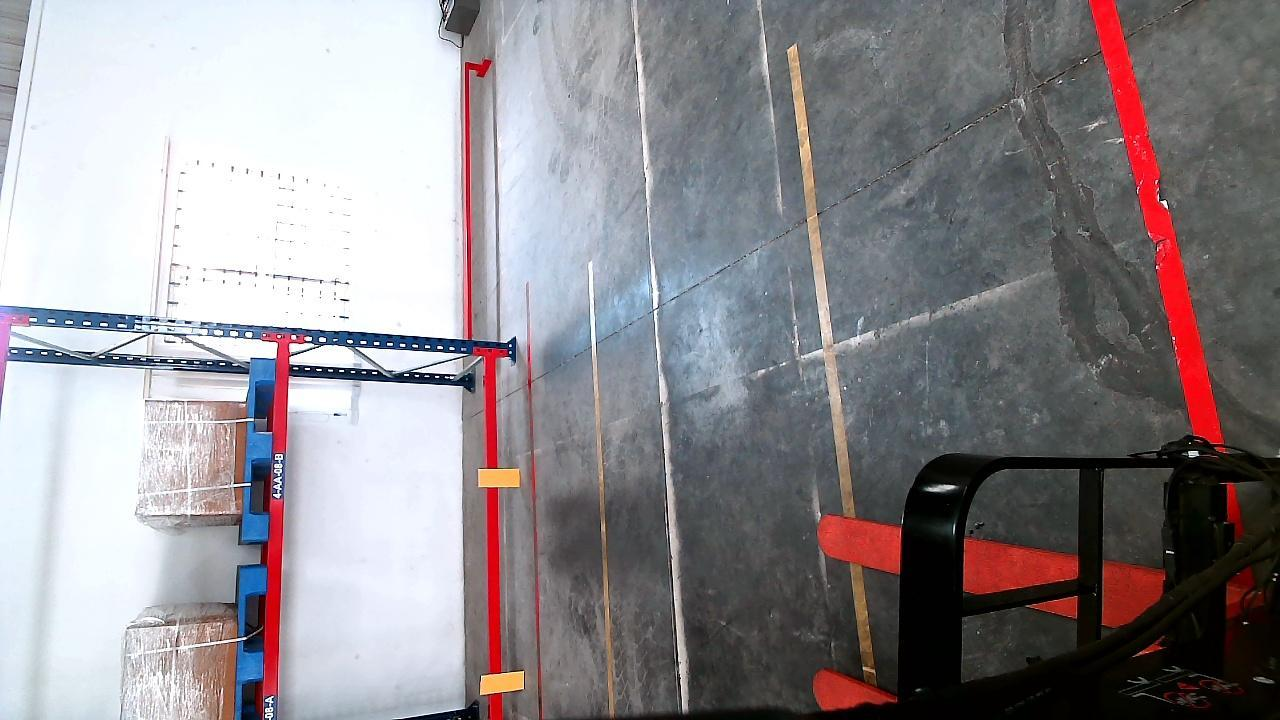red_line: (1082, 0, 1232, 437)
yellow_line: (780, 44, 863, 516), (579, 259, 630, 709)
